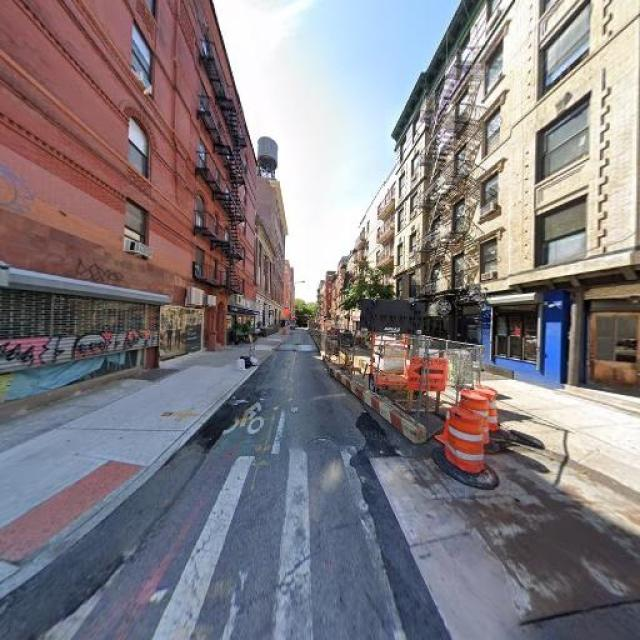Building: (395, 1, 640, 412), (1, 1, 249, 407)
